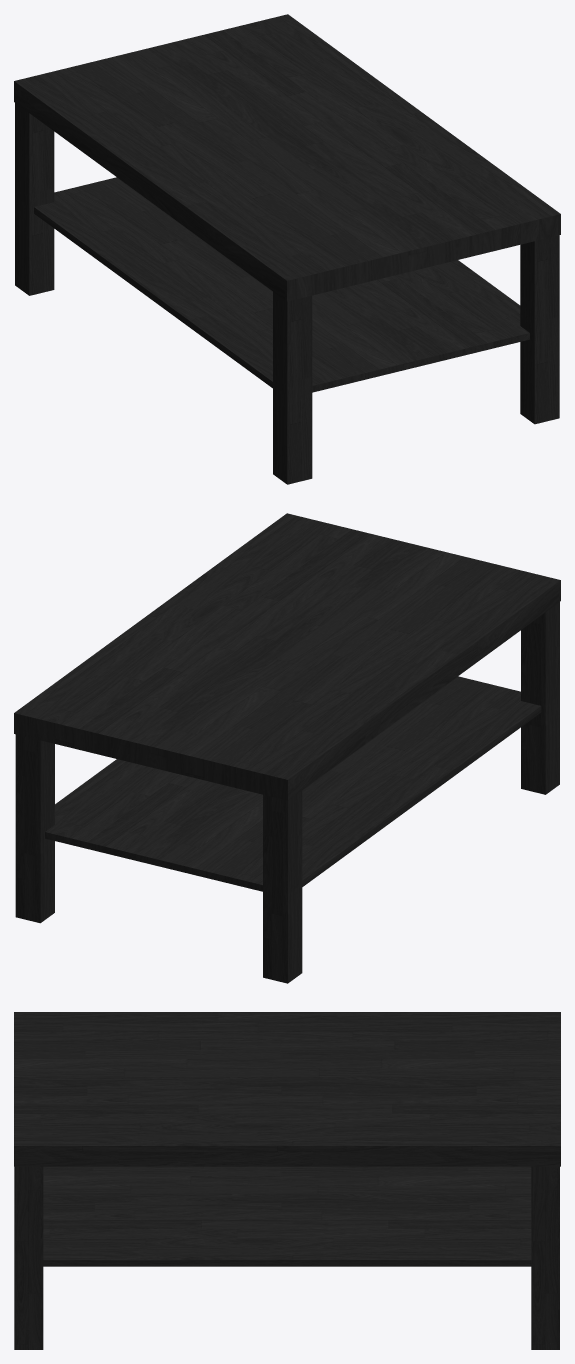
File: Cafe-Table.FBX
3 renders of one model, top to bottom at view 1: azimuth 30°, elevation 25°; view 2: azimuth 150°, elevation 25°; view 3: azimuth 270°, elevation 25°, orthographic.
Parts seen in each view (by area): view 1: Cafe-Table; view 2: Cafe-Table; view 3: Cafe-Table.
Boxes of the visible parts, left/top/right/bottom form: Cafe-Table: left=14, top=14, right=560, bottom=484; Cafe-Table: left=14, top=513, right=560, bottom=983; Cafe-Table: left=14, top=1012, right=560, bottom=1349.
Size of the model in its own units: 16.49 by 11.75 by 28.46.
1 material, 1 textured.
